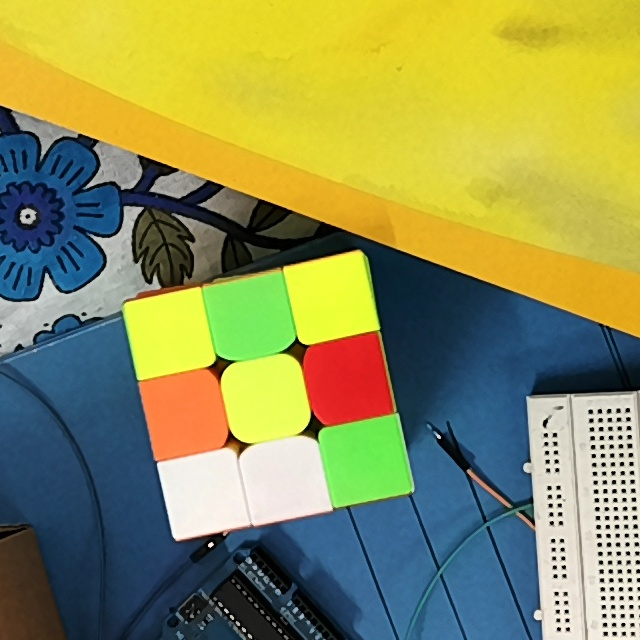tile: (216, 287, 284, 348), (153, 381, 218, 444), (299, 266, 364, 328), (333, 428, 398, 490), (134, 302, 201, 362), (233, 368, 297, 428), (316, 349, 379, 409), (174, 462, 237, 522), (253, 449, 316, 509)
